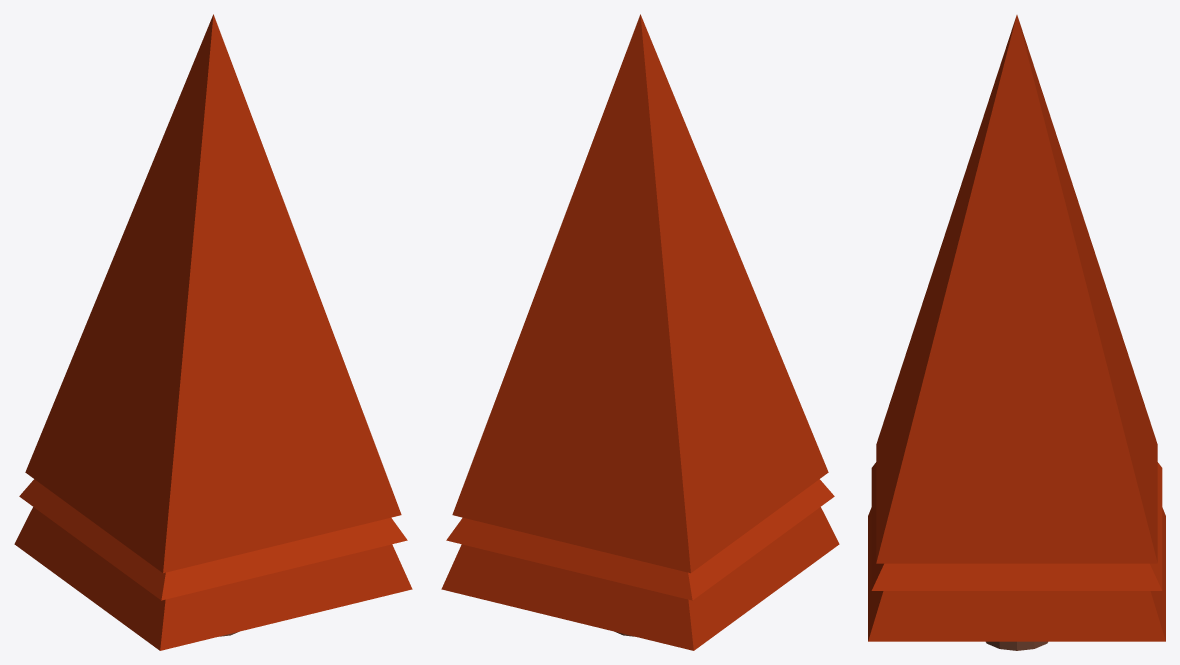
Rendered from Tree_34_summer_red_vc.fbx.
3 views of the same model, side by side, from view 1: azimuth 30°, elevation 25°; view 2: azimuth 150°, elevation 25°; view 3: azimuth 270°, elevation 25° (orthographic). The views are drawn at different scales.
Parts seen in each view (by area): view 1: Tree_34_summer_red_vc; view 2: Tree_34_summer_red_vc; view 3: Tree_34_summer_red_vc.
Boxes of the visible parts, left/top/right/bottom form: Tree_34_summer_red_vc: left=14, top=14, right=412, bottom=650; Tree_34_summer_red_vc: left=441, top=14, right=839, bottom=650; Tree_34_summer_red_vc: left=868, top=15, right=1165, bottom=650.
Size of the model in its own units: 83.78 by 193 by 83.78.
